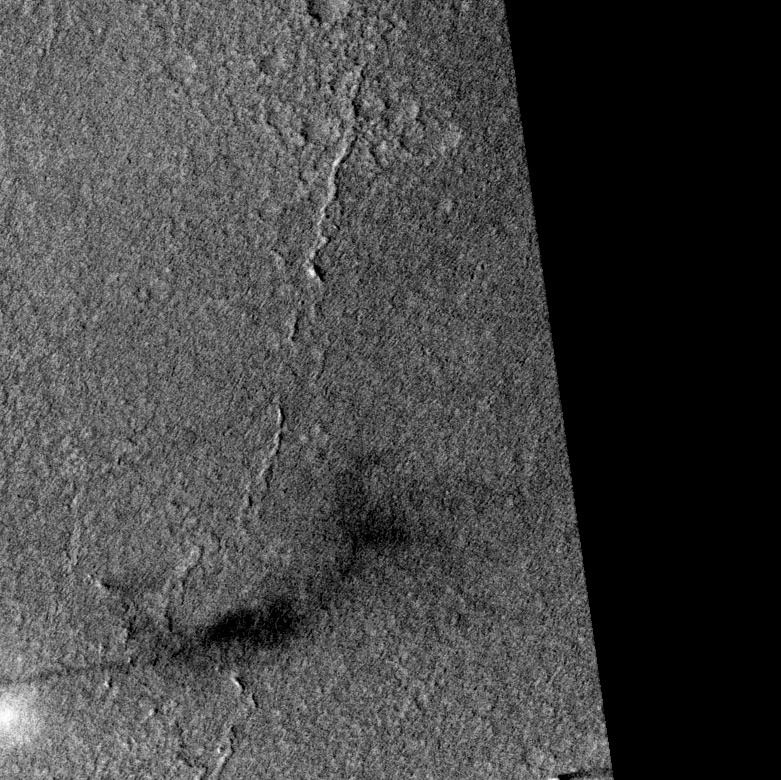dust_devil: (1, 593, 311, 750)
